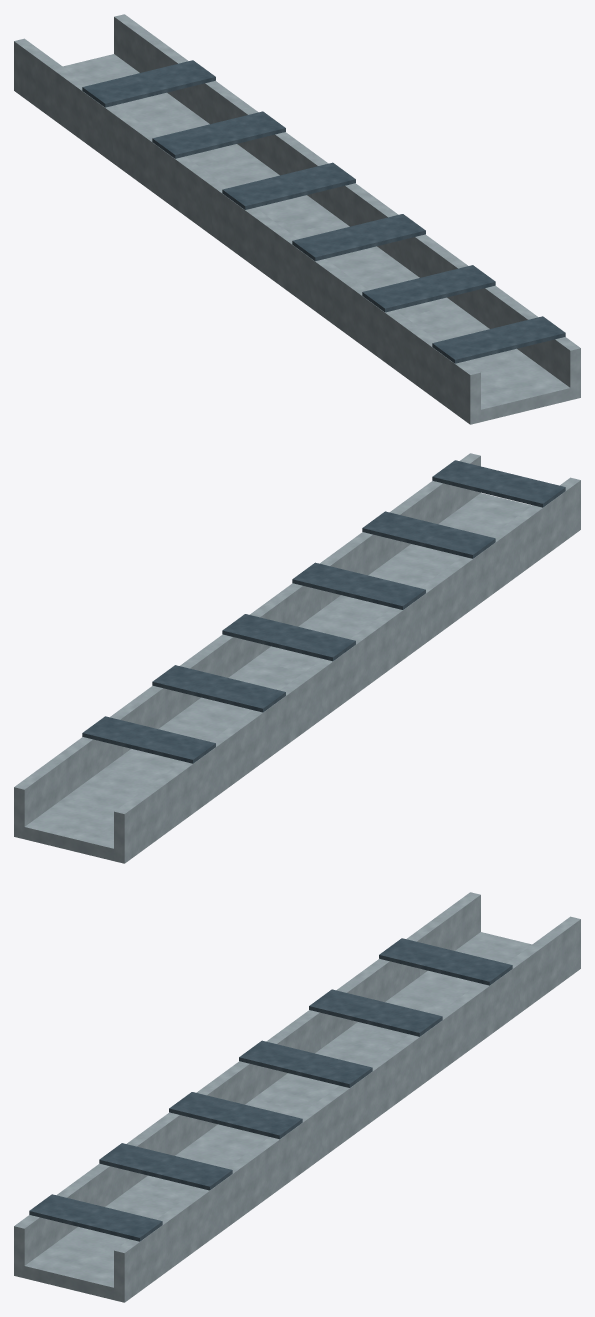
File: PZ_Caldera_CableTray_03m.glb
3 views of the same model, one above another, from view 1: azimuth 30°, elevation 25°; view 2: azimuth 150°, elevation 25°; view 3: azimuth 330°, elevation 25° (orthographic).
Parts seen in each view (by area): view 1: PZ_Caldera_CableTray_03m_CABLE_TRAY_SIDE_L, PZ_Caldera_CableTray_03m_BOLTED_TRAY_COVERS, PZ_Caldera_CableTray_03m_CABLE_TRAY_BASE, PZ_Caldera_CableTray_03m_CABLE_TRAY_SIDE_R; view 2: PZ_Caldera_CableTray_03m_CABLE_TRAY_SIDE_L, PZ_Caldera_CableTray_03m_CABLE_TRAY_BASE, PZ_Caldera_CableTray_03m_BOLTED_TRAY_COVERS, PZ_Caldera_CableTray_03m_CABLE_TRAY_SIDE_R; view 3: PZ_Caldera_CableTray_03m_CABLE_TRAY_SIDE_R, PZ_Caldera_CableTray_03m_BOLTED_TRAY_COVERS, PZ_Caldera_CableTray_03m_CABLE_TRAY_BASE, PZ_Caldera_CableTray_03m_CABLE_TRAY_SIDE_L.
Part boxes in pixels (<box>): PZ_Caldera_CableTray_03m_CABLE_TRAY_SIDE_L: <box>14,38,480,424</box>; PZ_Caldera_CableTray_03m_BOLTED_TRAY_COVERS: <box>82,60,565,363</box>; PZ_Caldera_CableTray_03m_CABLE_TRAY_BASE: <box>63,54,570,421</box>; PZ_Caldera_CableTray_03m_CABLE_TRAY_SIDE_R: <box>114,14,580,400</box>; PZ_Caldera_CableTray_03m_CABLE_TRAY_SIDE_L: <box>114,477,580,863</box>; PZ_Caldera_CableTray_03m_CABLE_TRAY_BASE: <box>24,493,531,860</box>; PZ_Caldera_CableTray_03m_BOLTED_TRAY_COVERS: <box>82,460,565,763</box>; PZ_Caldera_CableTray_03m_CABLE_TRAY_SIDE_R: <box>14,453,480,839</box>; PZ_Caldera_CableTray_03m_CABLE_TRAY_SIDE_R: <box>114,916,580,1302</box>; PZ_Caldera_CableTray_03m_BOLTED_TRAY_COVERS: <box>29,938,512,1241</box>; PZ_Caldera_CableTray_03m_CABLE_TRAY_BASE: <box>24,932,531,1299</box>; PZ_Caldera_CableTray_03m_CABLE_TRAY_SIDE_L: <box>14,892,480,1278</box>.
Bounding box in the file's own units: 0.42 × 0.195 × 3.
Materials: 2 (2 with a texture image).
